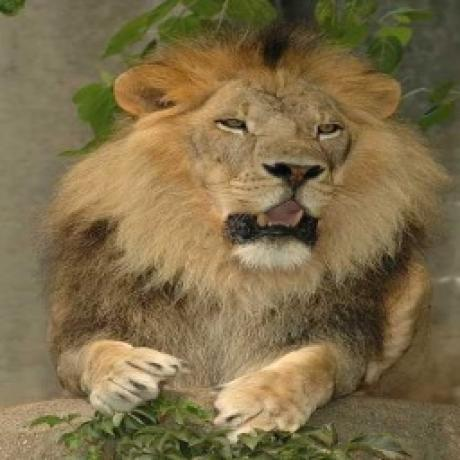Lion: (43, 14, 445, 444)
